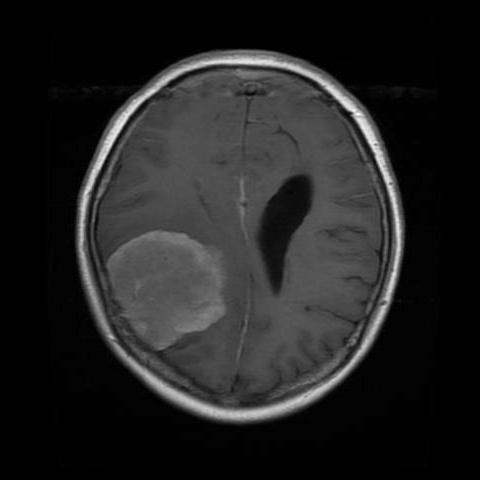Tumour-Pituitary: (89, 194, 268, 370)
